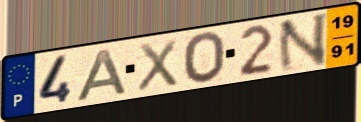2: (237, 22, 277, 79)
4: (36, 52, 77, 107)
A: (74, 46, 131, 103)
N: (276, 10, 331, 75)
O: (181, 30, 228, 87)
X: (135, 37, 180, 94)
